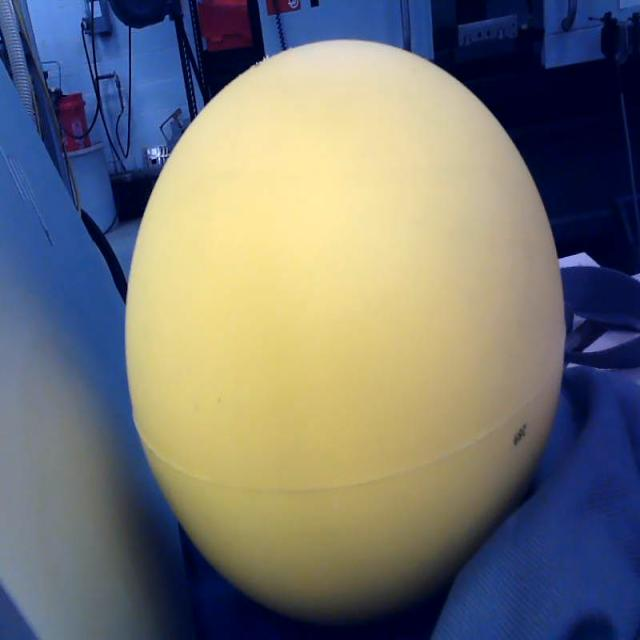Fuel: (126, 42, 566, 623)
